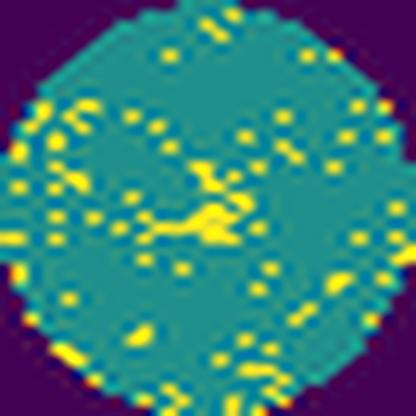Center: (132, 157, 259, 251)
